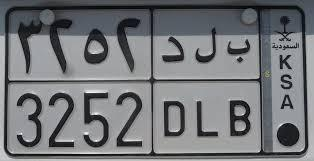2: (48, 18, 76, 149), (116, 16, 143, 148)
3: (15, 20, 44, 149)
5: (82, 26, 110, 149)
B: (227, 38, 253, 137)
D: (161, 35, 186, 138)
L: (195, 26, 220, 138)
